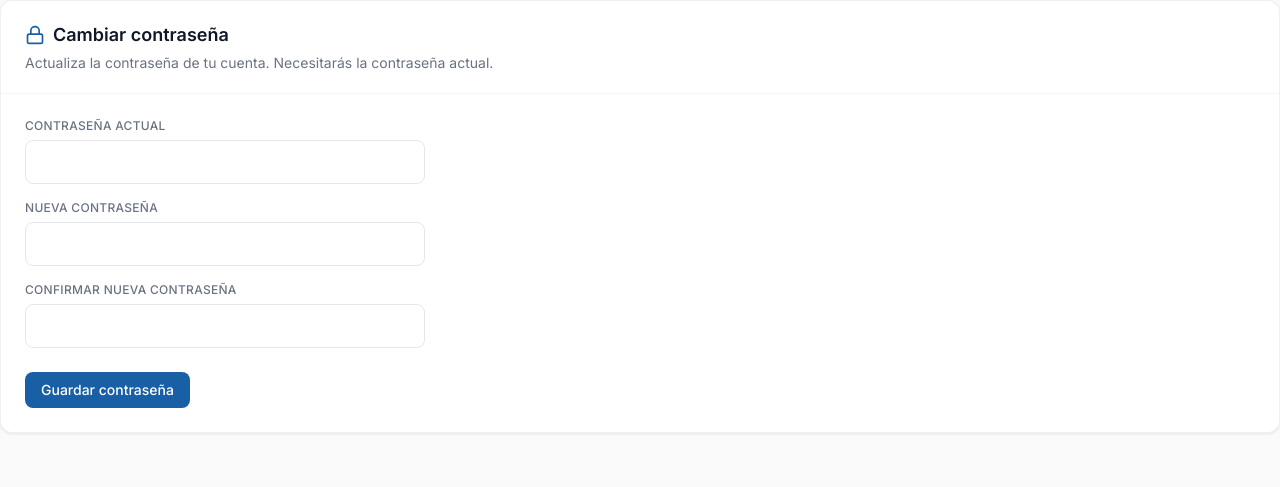
it: CambiarPasswordPropioForm › envía contraseñas al API
Type "Actual123!" into the password field labelled "Contraseña actual" at [225, 162], box [25,140,425,184]
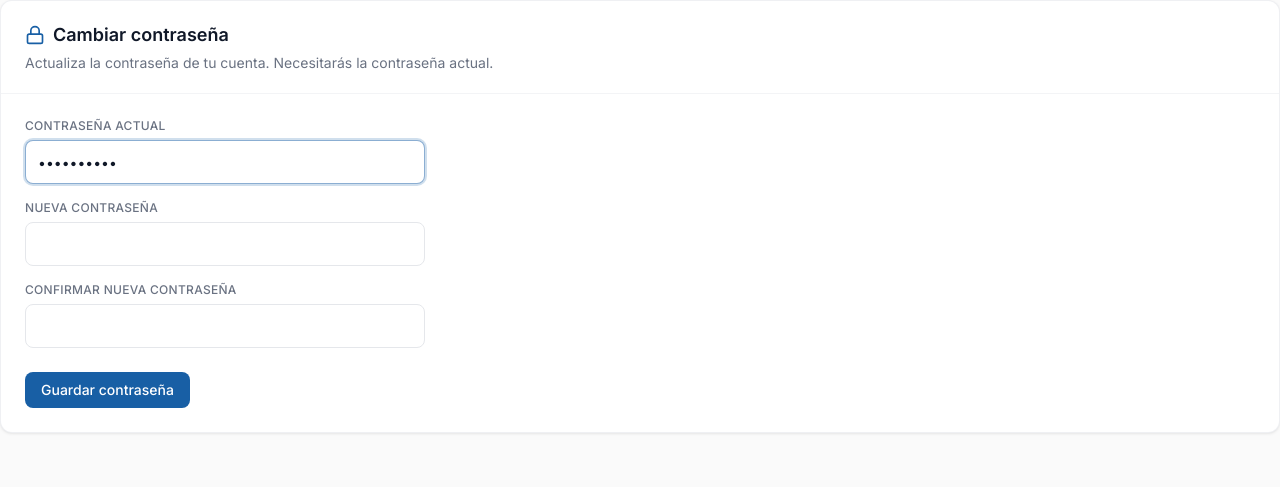
Type "Nueva12345!" into the password field labelled "Nueva contraseña" at [225, 244], box [25,222,425,266]
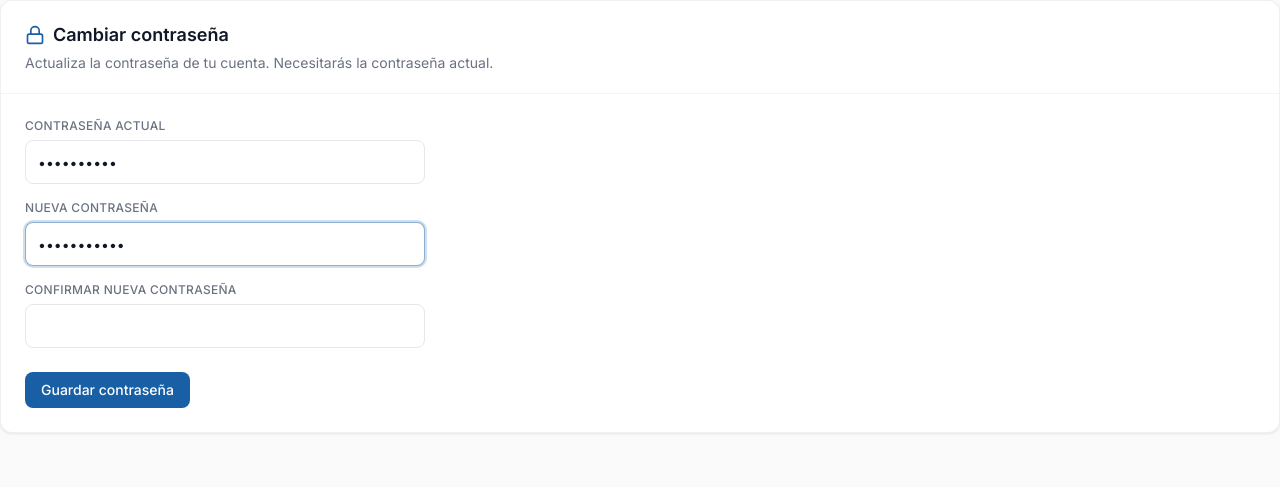
Type "Nueva12345!" into the password field labelled "Confirmar nueva contraseña" at [225, 326], box [25,304,425,348]
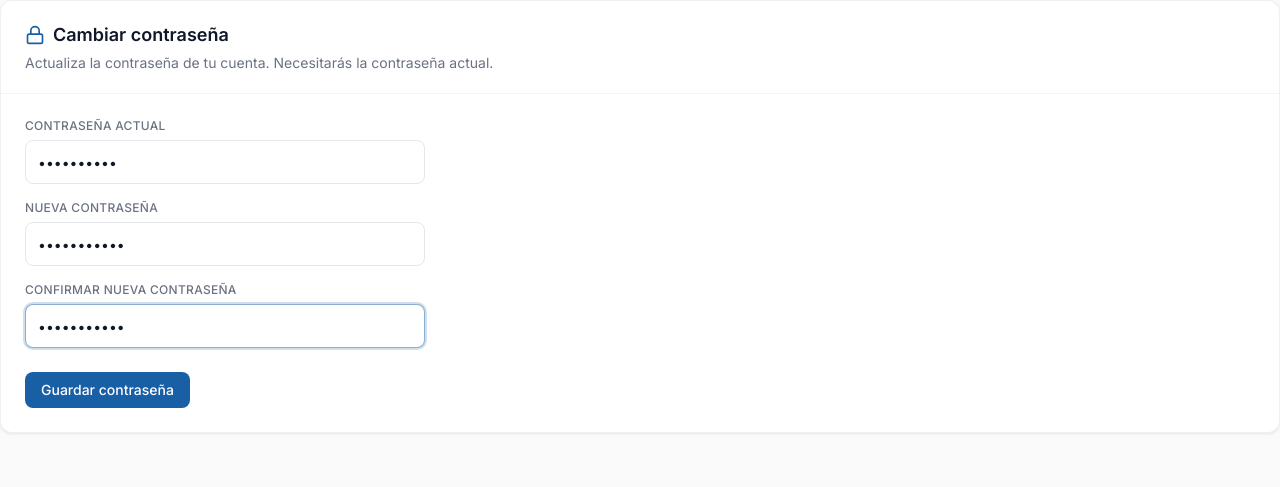
Click the button "Guardar contraseña" at [107, 390], box [25,372,190,408]
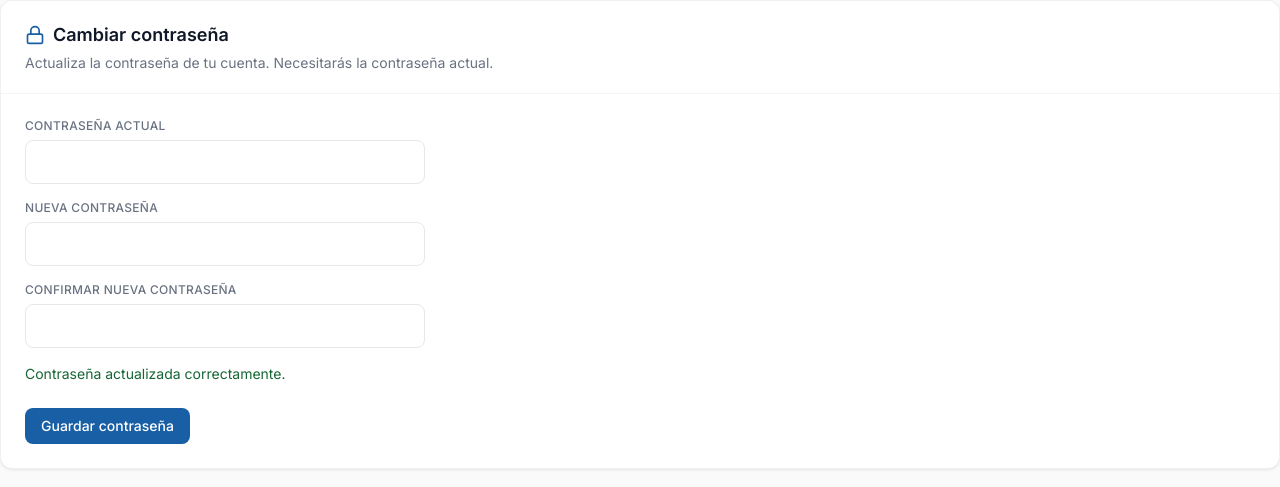
Now the text "Contraseña actualizada correctamente." is shown, box [25,365,286,382]
